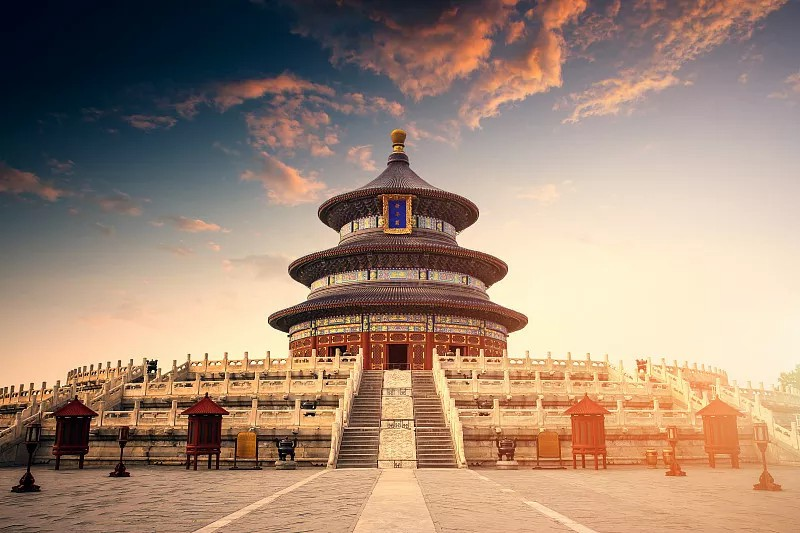Heaven: (267, 128, 533, 371)
